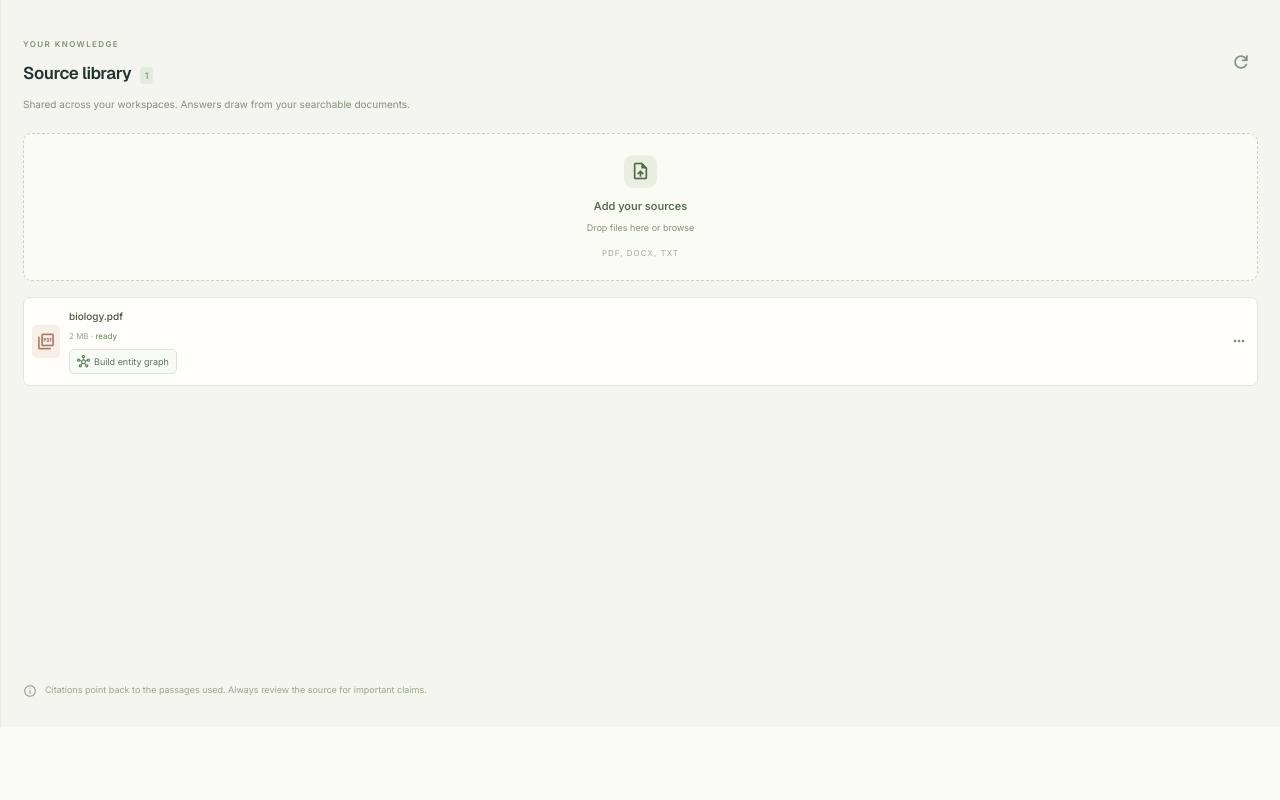
SourceLibrary knowledge graph action › shows request failures as errors without inventing a graph status or count
The image size is (1280, 800).
Click the button "Build entity graph" at [123, 361], box 69,348 -> 177,374
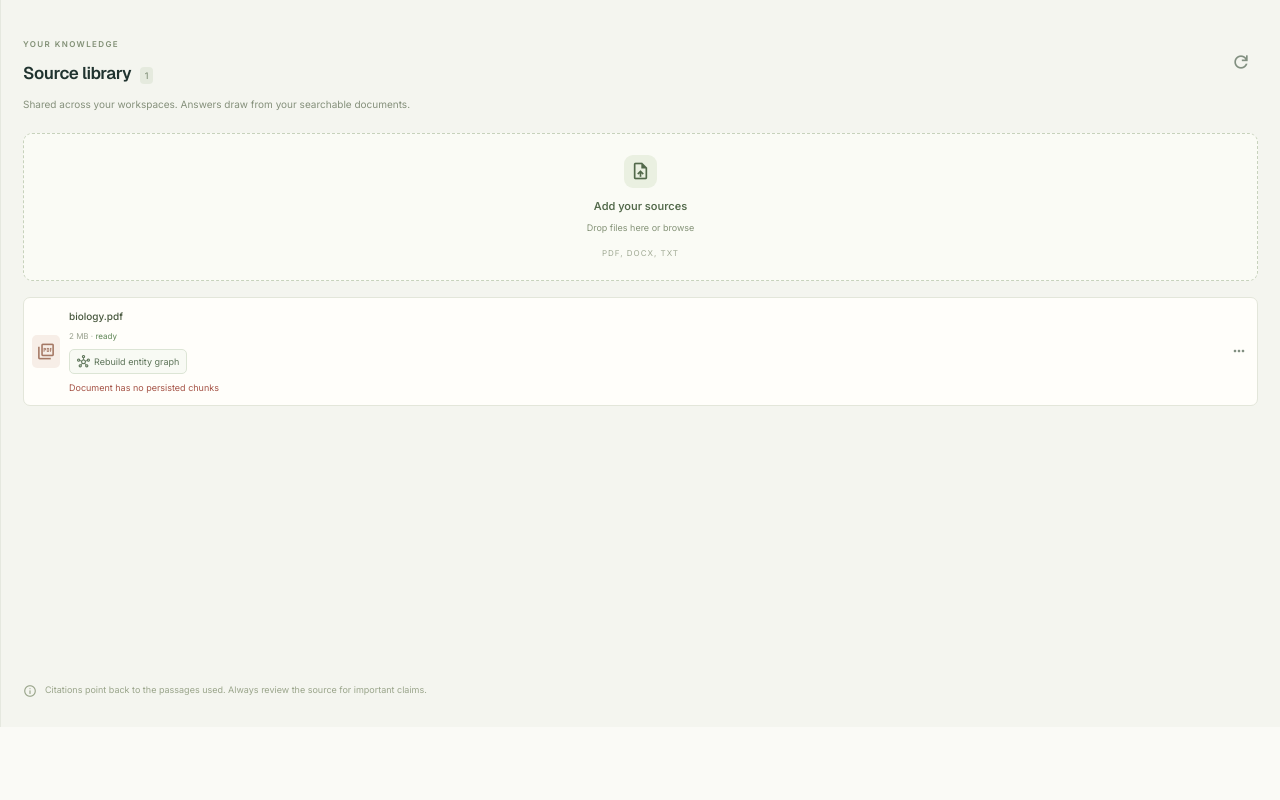
Expected: the message reads "Document has no persisted chunks", 69,382 -> 219,393
